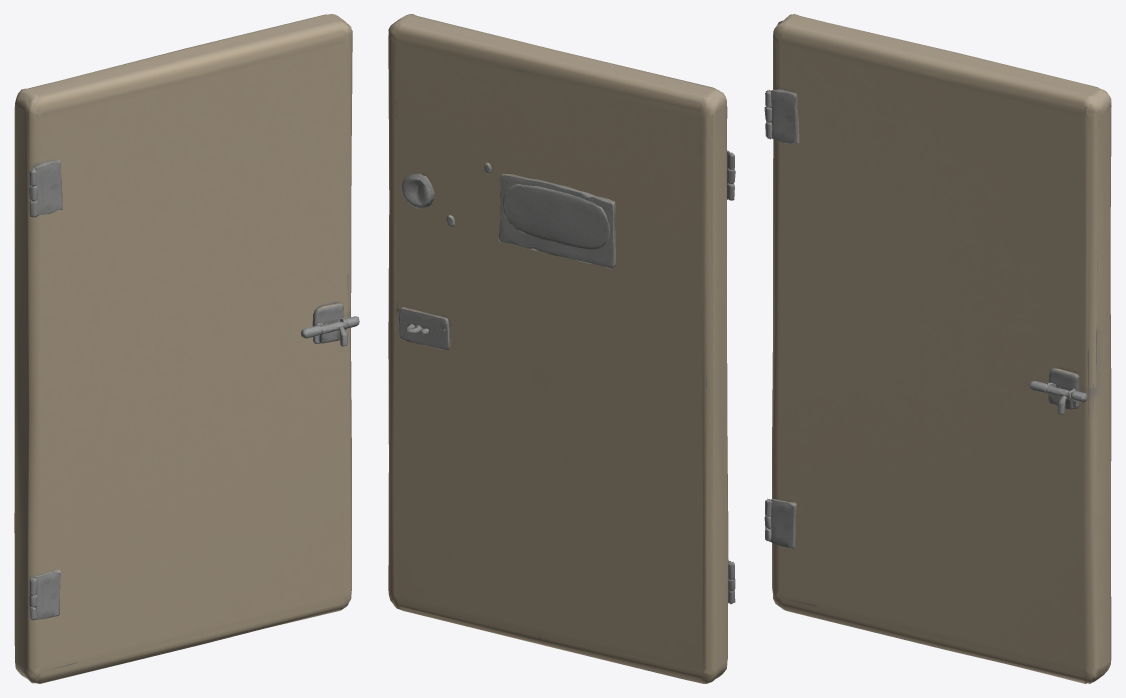
File: Meshy_AI_bathroom_stall_door_0904015614_texture.glb
3 views of the same model, side by side, from view 1: azimuth 30°, elevation 25°; view 2: azimuth 150°, elevation 25°; view 3: azimuth 330°, elevation 25° (orthographic).
Visible parts, largest first — view 1: mesh_node; view 2: mesh_node; view 3: mesh_node.
Boxes of the visible parts, left/top/right/bottom form: mesh_node: left=14, top=14, right=359, bottom=683; mesh_node: left=388, top=14, right=735, bottom=683; mesh_node: left=764, top=14, right=1111, bottom=683.
Bounding box in the file's own units: 0.5879 × 1 × 0.1226.
Materials: 1 (1 with a texture image).
